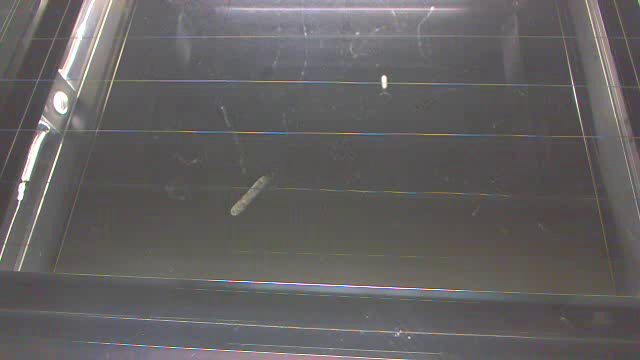alpha: (230, 175, 269, 217), (382, 75, 387, 89)
